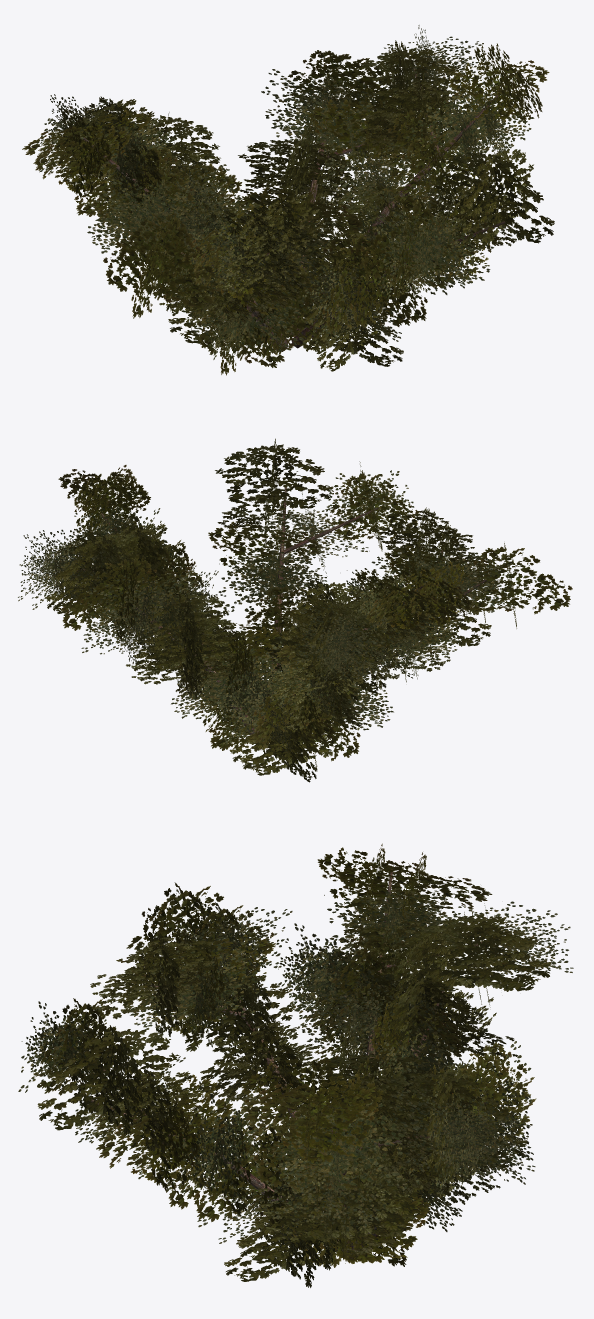
Rendered from bush_3d_02_lod0.glb.
3 views of the same model, one above another, from view 1: azimuth 30°, elevation 25°; view 2: azimuth 150°, elevation 25°; view 3: azimuth 270°, elevation 25° (orthographic). The views are drawn at different scales.
Visible parts, largest first — view 1: foliage_cards, wood_geometry; view 2: foliage_cards, wood_geometry; view 3: foliage_cards, wood_geometry.
Part boxes in pixels (x1,y1,x2,y2): foliage_cards: [22, 25, 554, 375]; wood_geometry: [83, 67, 505, 351]; foliage_cards: [18, 438, 572, 782]; wood_geometry: [77, 487, 486, 742]; foliage_cards: [18, 843, 573, 1287]; wood_geometry: [78, 869, 494, 1258].
Size of the model in its own units: 3.1 by 1.49 by 2.51.
2 materials, 2 textured.
